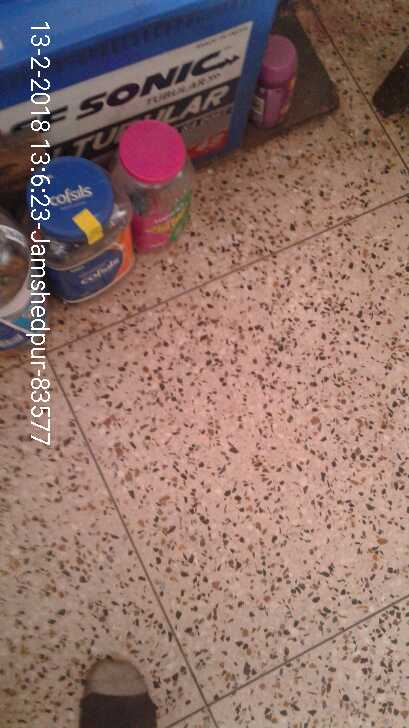reject: (156, 278, 269, 352)
